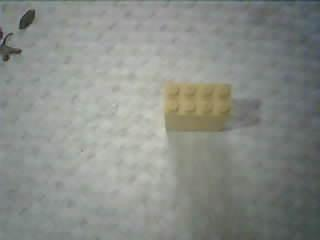lego: (161, 80, 234, 132)
